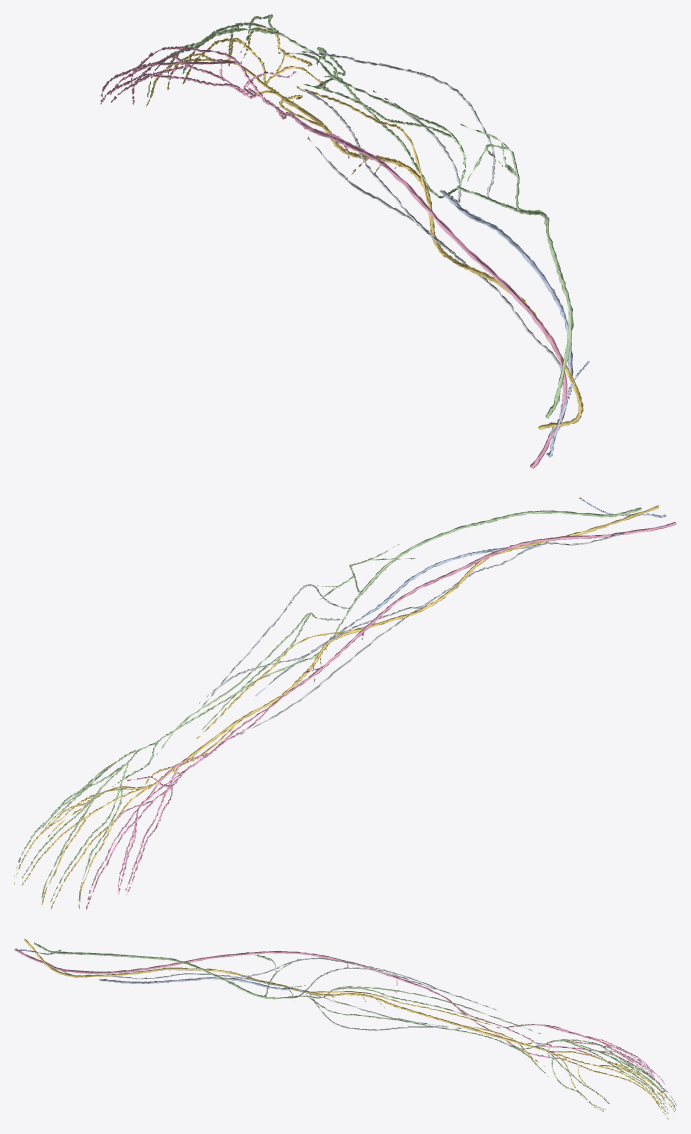
File: nerves.glb
3 renders of one model, top to bottom at view 1: azimuth 30°, elevation 25°; view 2: azimuth 150°, elevation 25°; view 3: azimuth 270°, elevation 25°, orthographic. The views are drawn at different scales.
Visible parts, largest first — view 1: nerve_ulnar, nerve_median, nerve_radial, nerve_radial-dorsal-digital, nerve_musculocutaneous, nerve_median-proper-digital, nerve_ulnar-proper-digital, nerve_posterior-antebrachial-cutaneous, nerve_radial-superficial, nerve_radial-deep; view 2: nerve_median, nerve_ulnar, nerve_radial-dorsal-digital, nerve_median-proper-digital, nerve_radial, nerve_radial-superficial; view 3: nerve_median, nerve_ulnar, nerve_radial-dorsal-digital, nerve_radial, nerve_median-proper-digital, nerve_radial-superficial, nerve_musculocutaneous, nerve_radial-deep, nerve_posterior-antebrachial-cutaneous, nerve_mac-posterior, nerve_anterior-interosseous, nerve_mac-anterior (+1 smaller).
Boxes of the visible parts, x1,y1,x2,y2 form: nerve_ulnar: (265,100,567,468); nerve_median: (264,84,583,429); nerve_radial: (459,187,573,418); nerve_radial-dorsal-digital: (147,14,345,97); nerve_musculocutaneous: (442,191,573,375); nerve_median-proper-digital: (146,27,325,106); nerve_ulnar-proper-digital: (100,56,248,104); nerve_posterior-antebrachial-cutaneous: (301,51,495,199); nerve_radial-superficial: (279,32,459,198); nerve_radial-deep: (278,52,466,188); nerve_median: (152,505,659,785); nerve_ulnar: (210,522,676,753); nerve_radial-dorsal-digital: (14,762,128,902); nerve_median-proper-digital: (14,786,138,909); nerve_radial: (343,507,641,620); nerve_radial-superficial: (112,619,343,786); nerve_median: (24,938,549,1051); nerve_ulnar: (15,948,504,1027); nerve_radial-dorsal-digital: (551,1039,676,1113); nerve_radial: (34,942,306,999); nerve_median-proper-digital: (558,1056,675,1119); nerve_radial-superficial: (306,995,561,1076); nerve_musculocutaneous: (99,977,306,991); nerve_radial-deep: (307,986,540,1033); nerve_posterior-antebrachial-cutaneous: (284,967,497,1010); nerve_mac-posterior: (238,957,453,996); nerve_anterior-interosseous: (307,991,500,1028); nerve_mac-anterior: (238,977,461,1028).
Bounding box in the file's own units: 226 × 150 × 676.
